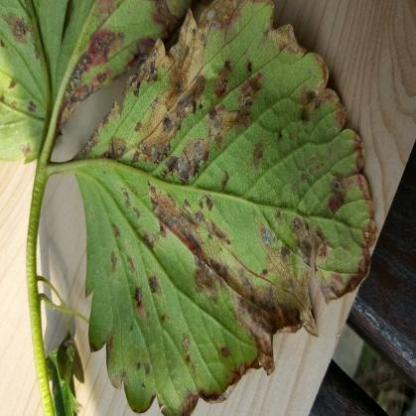Strawberry_Angular_LeafSpot: (70, 0, 379, 415), (0, 0, 199, 164)
